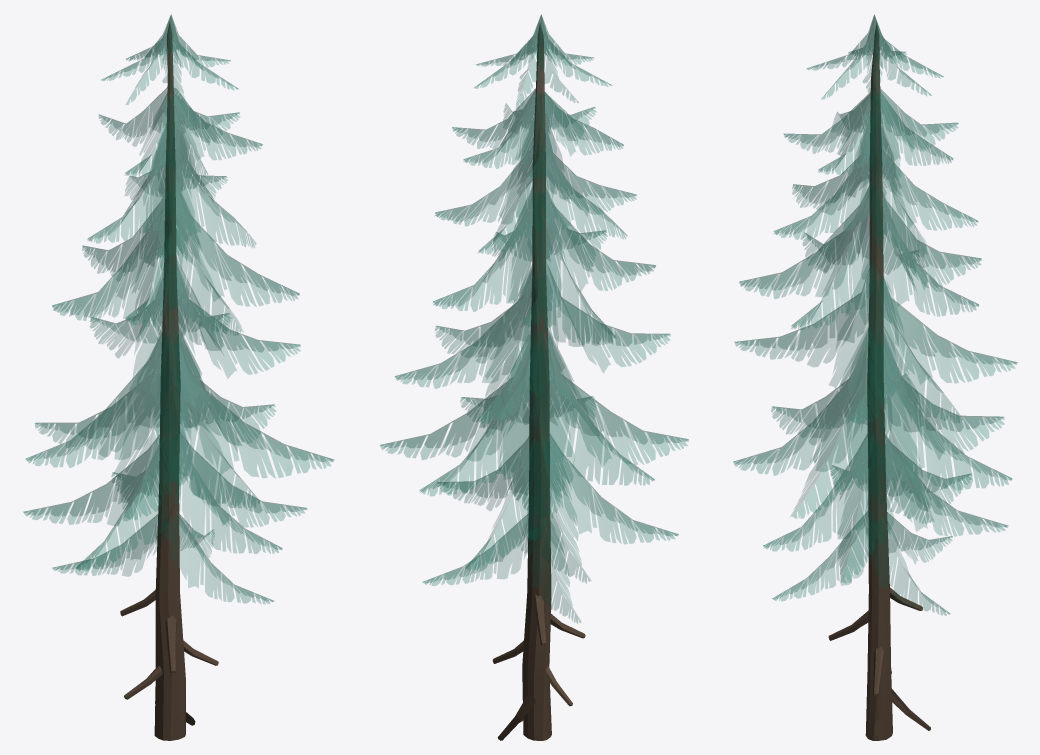
Rendered from PT_Pine_Tree_03_green_cut.glb.
3 views of the same model, side by side, from view 1: azimuth 30°, elevation 25°; view 2: azimuth 150°, elevation 25°; view 3: azimuth 270°, elevation 25° (orthographic).
Parts seen in each view (by area): view 1: PT_Pine_Tree_03_green_cut; view 2: PT_Pine_Tree_03_green_cut; view 3: PT_Pine_Tree_03_green_cut.
Part boxes in pixels (bbox=[...]): PT_Pine_Tree_03_green_cut: bbox=[23, 14, 333, 740]; PT_Pine_Tree_03_green_cut: bbox=[380, 14, 688, 740]; PT_Pine_Tree_03_green_cut: bbox=[733, 14, 1017, 740].
Bounding box in the file's own units: 3.21 × 8.02 × 3.03.
Materials: 2 (2 with a texture image).
